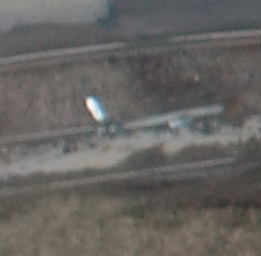opora: (83, 94, 226, 136)
